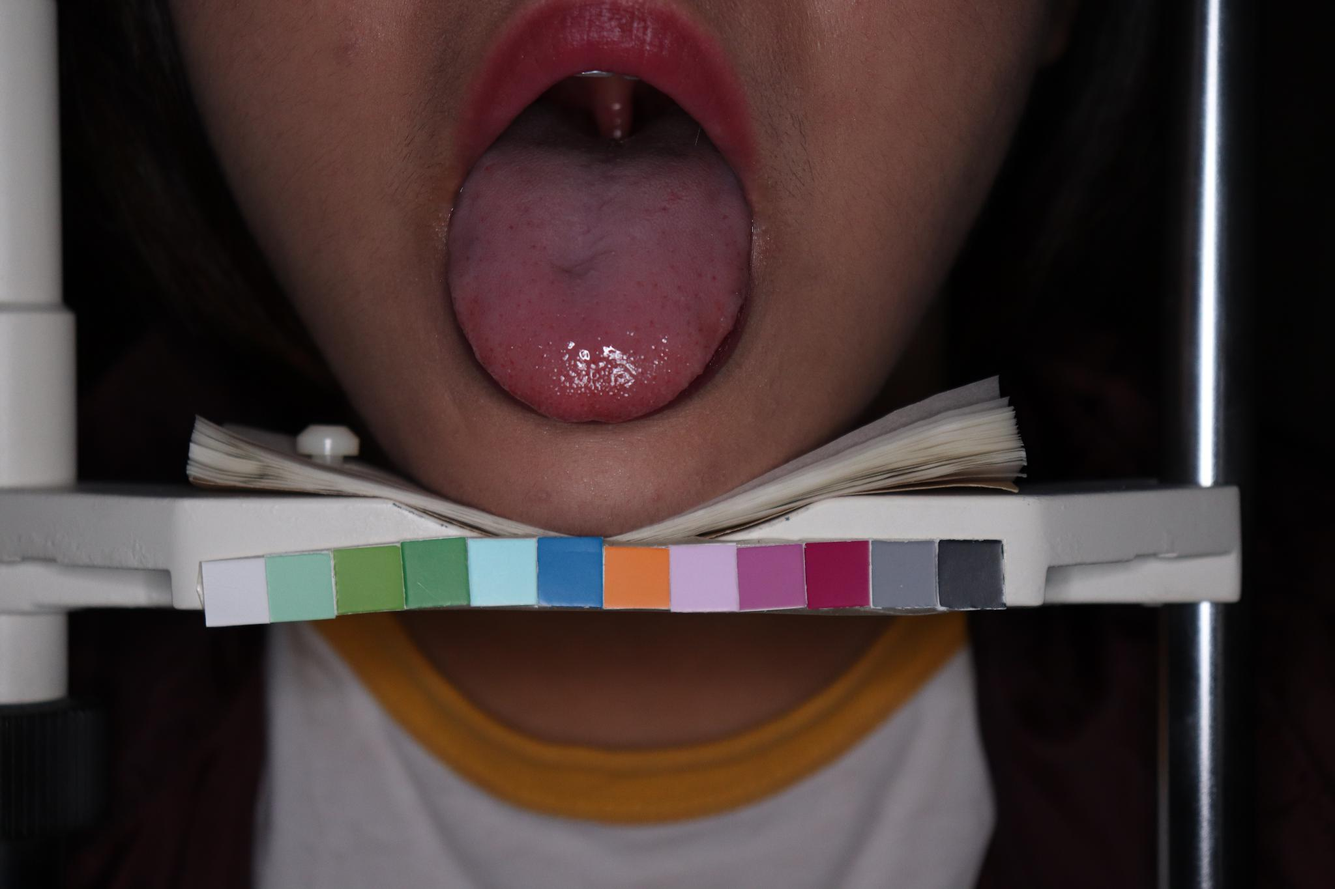baitaishe: (447, 109, 750, 423)
hongdianshe: (528, 242, 538, 251), (505, 222, 516, 230), (647, 317, 656, 326), (659, 203, 668, 212), (675, 283, 683, 292), (515, 300, 522, 309), (710, 274, 718, 281), (546, 340, 552, 348)
